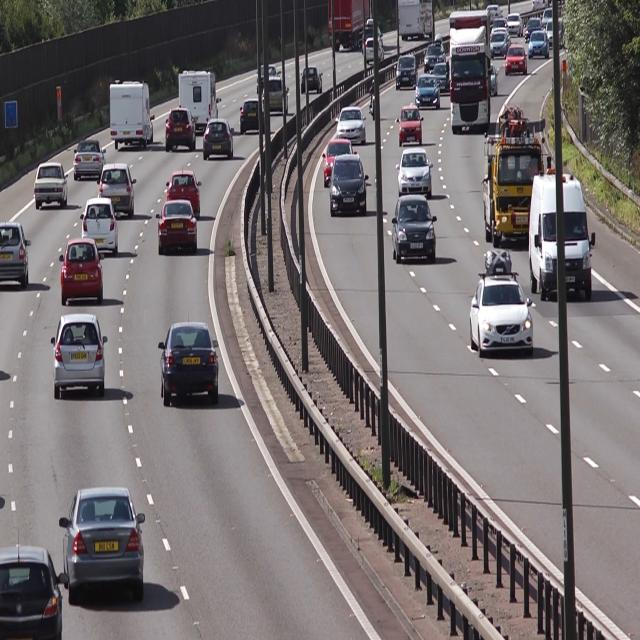Car: (64, 489, 153, 596), (530, 162, 596, 304), (483, 109, 548, 248), (468, 247, 536, 365), (157, 315, 221, 409), (449, 6, 492, 134), (50, 316, 110, 403), (109, 79, 159, 146), (394, 192, 440, 264), (60, 237, 106, 303), (154, 200, 200, 258), (178, 69, 221, 128), (332, 152, 369, 217), (78, 198, 121, 253), (0, 218, 33, 288), (99, 164, 138, 218), (396, 148, 434, 198), (34, 162, 70, 211), (166, 171, 202, 218), (73, 136, 109, 181), (163, 106, 197, 153), (336, 103, 368, 147), (202, 119, 235, 160), (262, 75, 290, 116), (238, 96, 266, 136), (397, 104, 422, 148), (415, 71, 441, 112), (396, 50, 420, 90), (300, 62, 326, 98), (504, 43, 528, 77), (529, 30, 552, 62)
